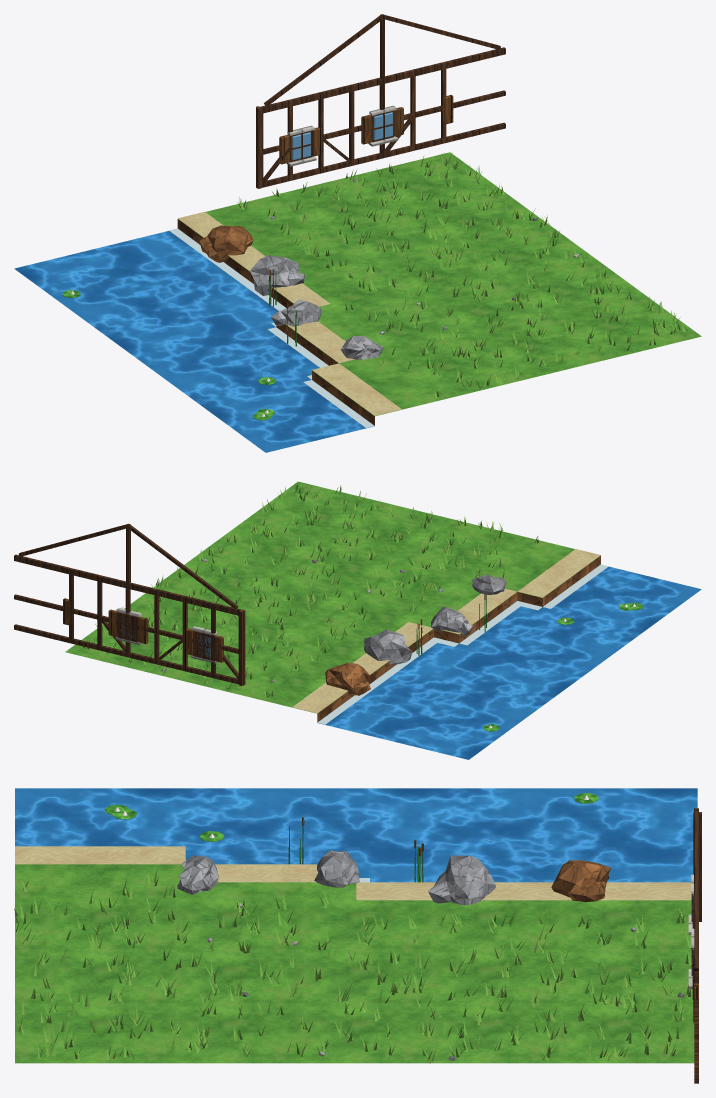
Rendered from chunk_0_10.glb.
3 views of the same model, one above another, from view 1: azimuth 30°, elevation 25°; view 2: azimuth 150°, elevation 25°; view 3: azimuth 270°, elevation 25° (orthographic). The views are drawn at different scales.
Visible parts, largest first — view 1: chunk_0_10; view 2: chunk_0_10; view 3: chunk_0_10.
Boxes of the visible parts, box(x1,y1,x2,y2) form: chunk_0_10: box(14, 14, 701, 452); chunk_0_10: box(14, 481, 701, 759); chunk_0_10: box(14, 788, 701, 1083).
Bounding box in the file's own units: 18 × 5.96 × 16.13.
18 materials, 14 textured.
